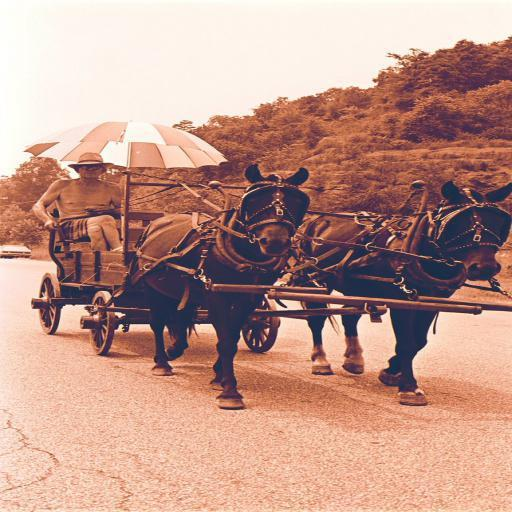horse: (286, 178, 512, 404), (122, 163, 314, 413)
